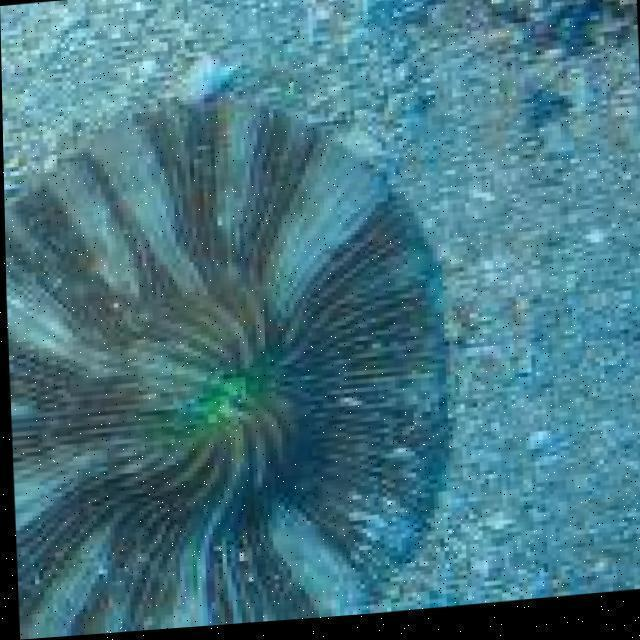Healthy Coral: (2, 65, 480, 640)
